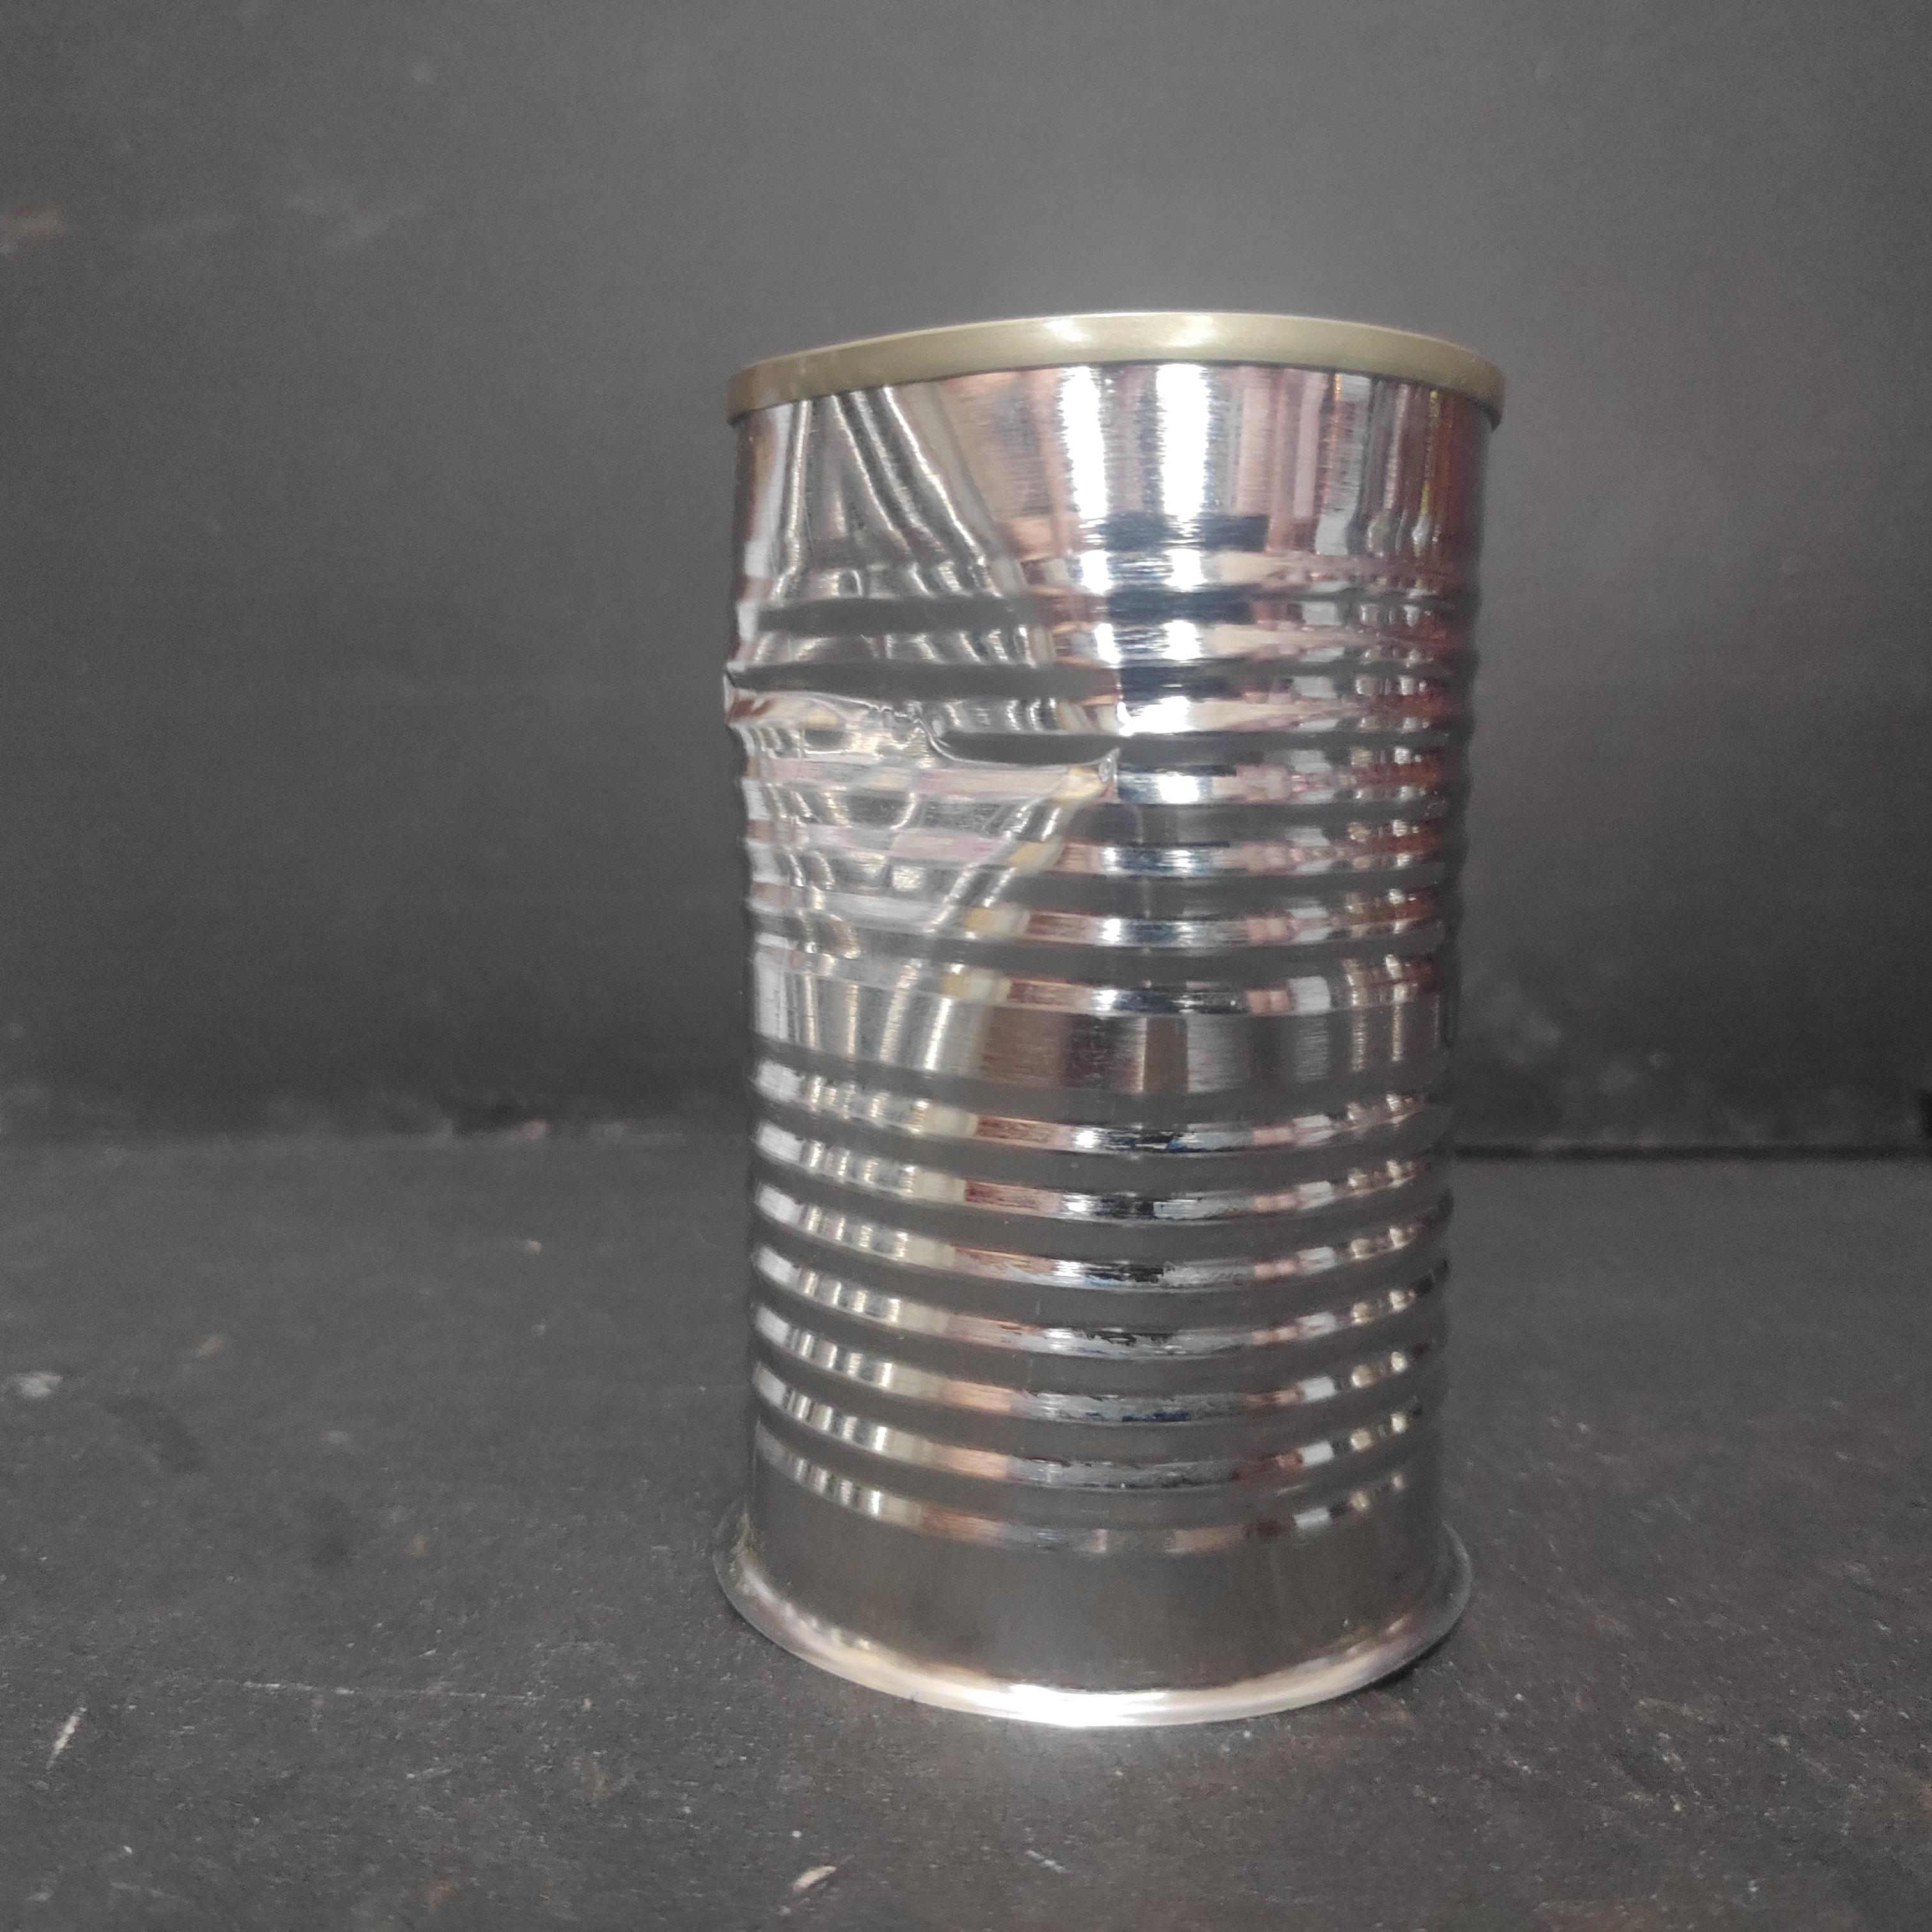Minor Defect: (713, 315, 1509, 1720)
